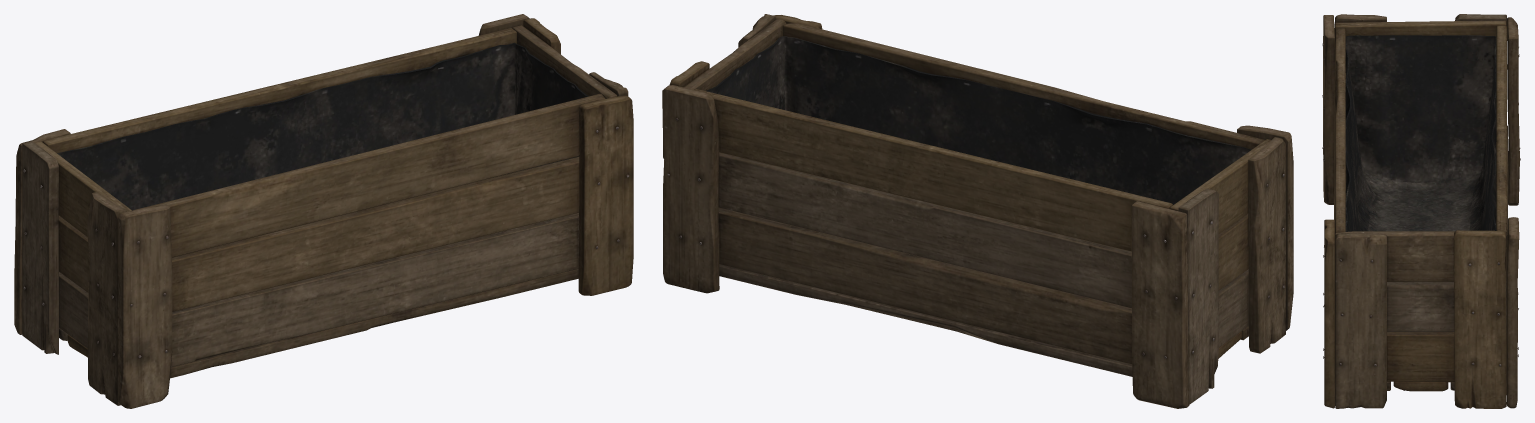
Rendered from planter_box_02.glb.
3 renders of one model, left to right at view 1: azimuth 30°, elevation 25°; view 2: azimuth 150°, elevation 25°; view 3: azimuth 270°, elevation 25°, orthographic. The views are drawn at different scales.
Parts seen in each view (by area): view 1: planter_box_02; view 2: planter_box_02; view 3: planter_box_02.
Boxes of the visible parts, x1,y1,x2,y2 form: planter_box_02: (14, 14, 633, 408); planter_box_02: (662, 14, 1293, 408); planter_box_02: (1322, 14, 1520, 408).
Size of the model in its own units: 1.25 by 0.4533 by 0.467.
1 material, 1 textured.
